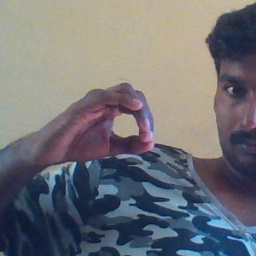O: (23, 76, 160, 167)
